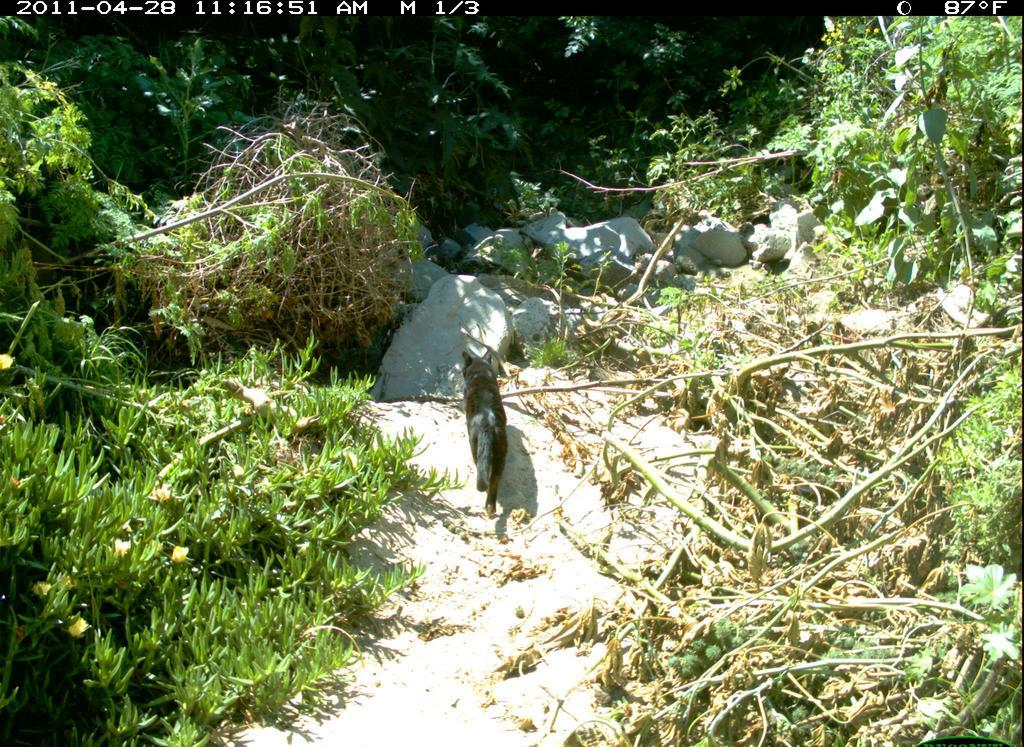cat: (456, 344, 520, 529)
